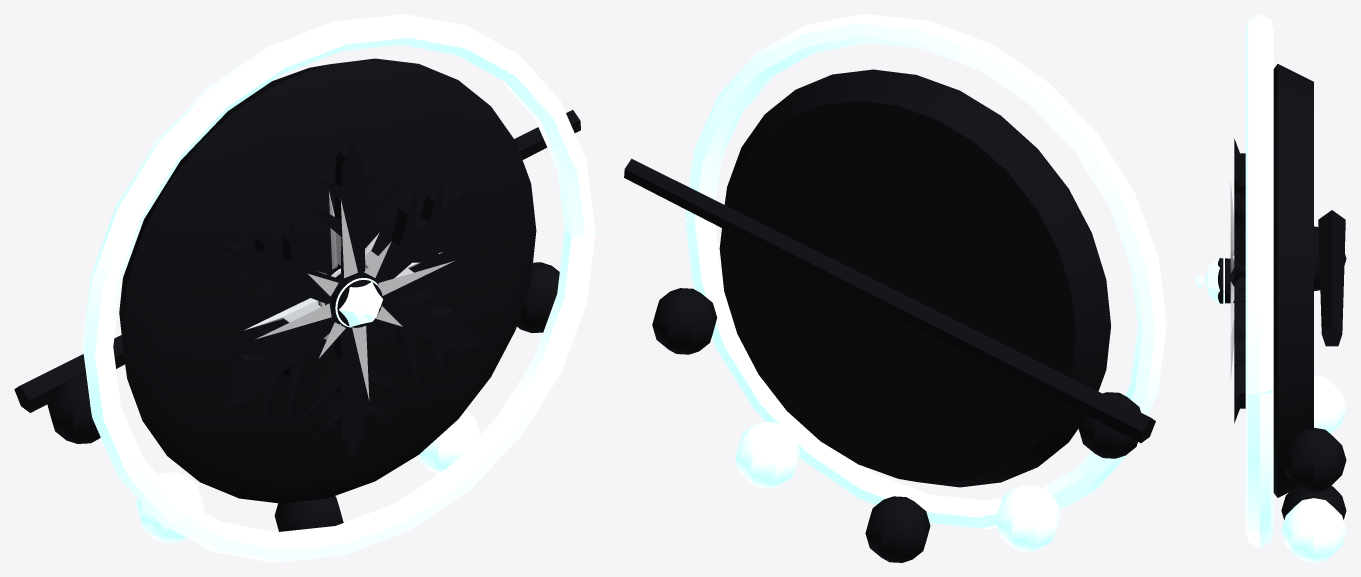
Rendered from esc_quietus_accessory.glb.
3 views of the same model, side by side, from view 1: azimuth 30°, elevation 25°; view 2: azimuth 150°, elevation 25°; view 3: azimuth 270°, elevation 25° (orthographic). The views are drawn at different scales.
Parts seen in each view (by area): view 1: esc_quietus_accessory; view 2: esc_quietus_accessory; view 3: esc_quietus_accessory.
Boxes of the visible parts, x1=… form: esc_quietus_accessory: x1=14, y1=14, x2=595, y2=562; esc_quietus_accessory: x1=624, y1=14, x2=1166, y2=562; esc_quietus_accessory: x1=1195, y1=14, x2=1346, y2=562.
Size of the model in its own units: 0.1616 by 0.153 by 0.0417.
